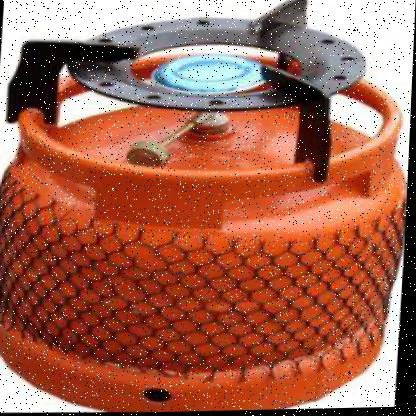gas-tank: (0, 35, 414, 415)
